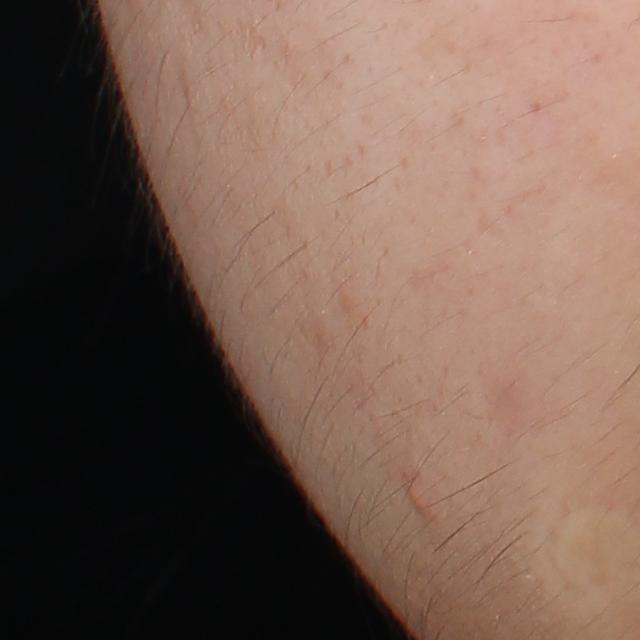papule: (399, 478, 437, 518)
